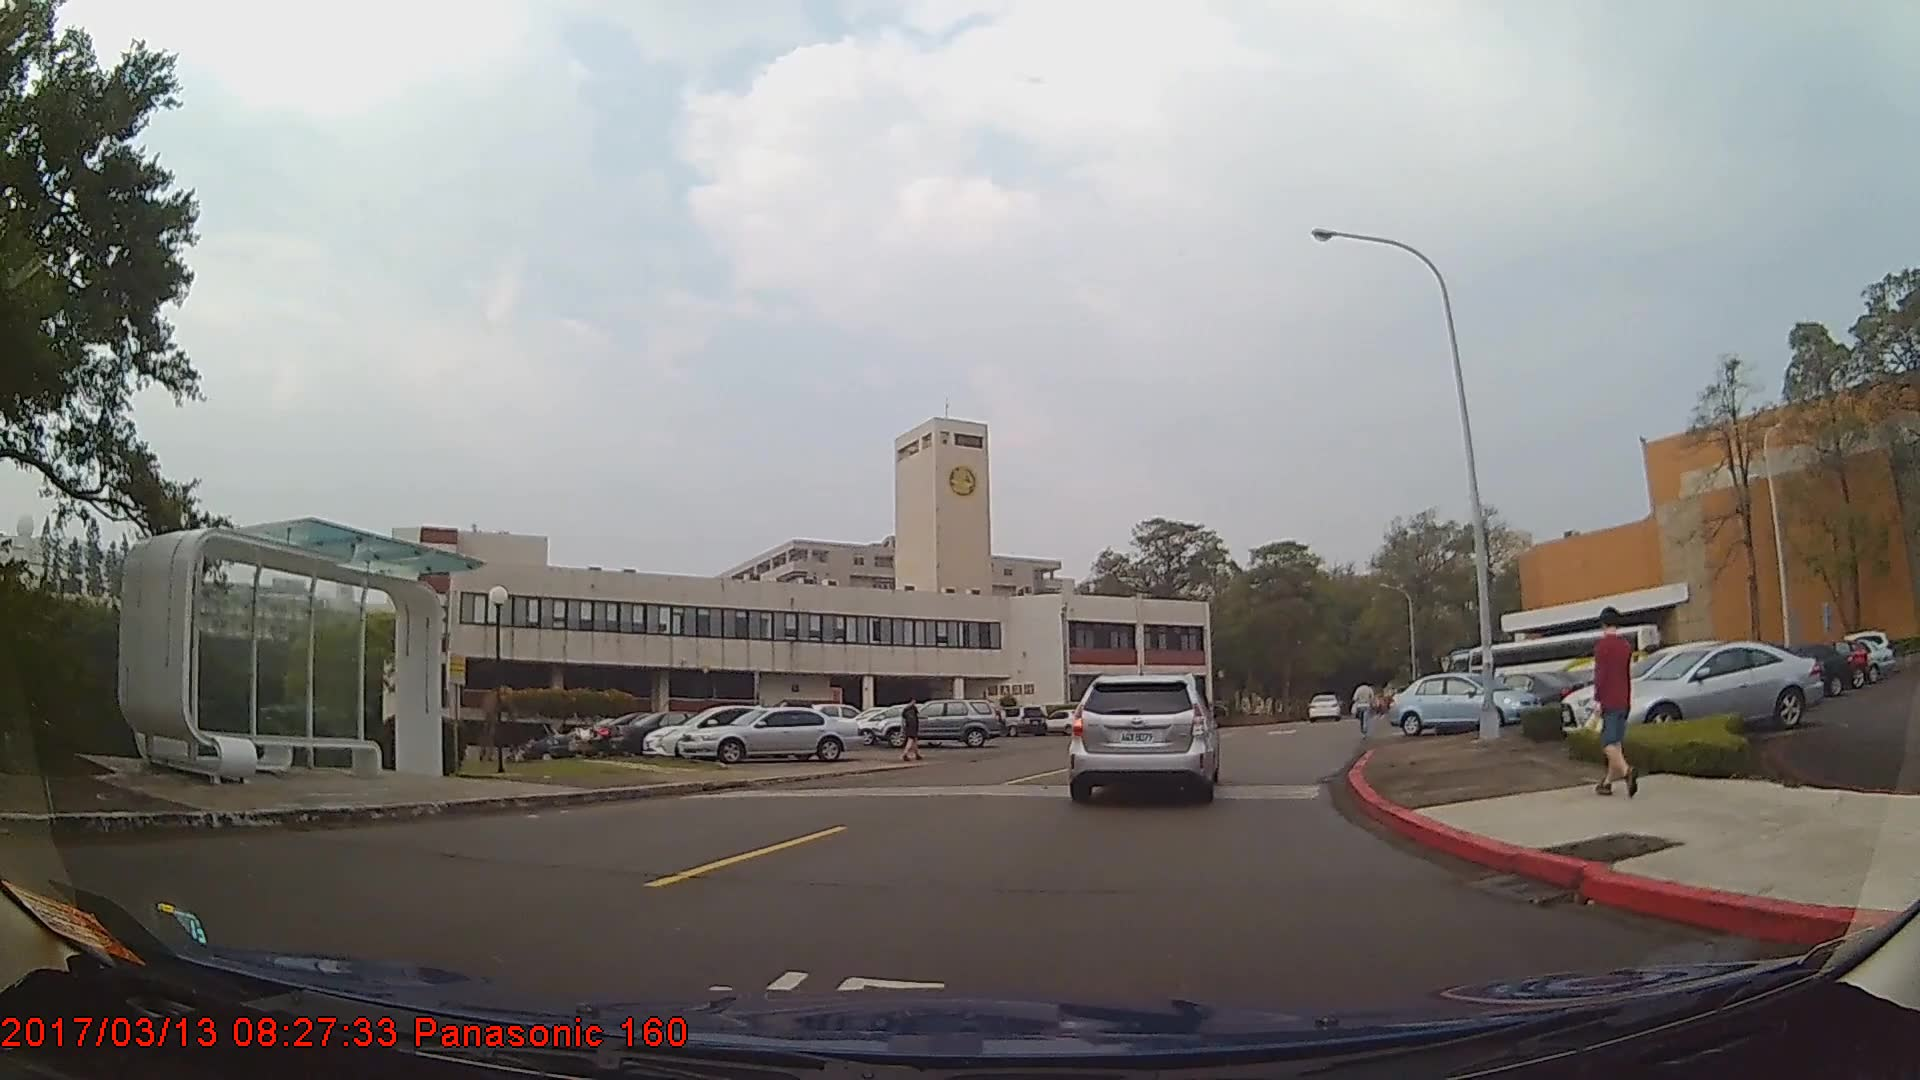pedestrian: (1586, 608, 1643, 810), (900, 697, 927, 767), (1352, 677, 1378, 736)
vehicle: (1591, 638, 1821, 732), (1561, 638, 1787, 733), (1069, 672, 1216, 805), (1384, 671, 1538, 737), (639, 706, 821, 761), (675, 705, 861, 760), (608, 708, 738, 760), (1740, 644, 1854, 699), (875, 697, 1007, 745), (1306, 692, 1340, 724)
